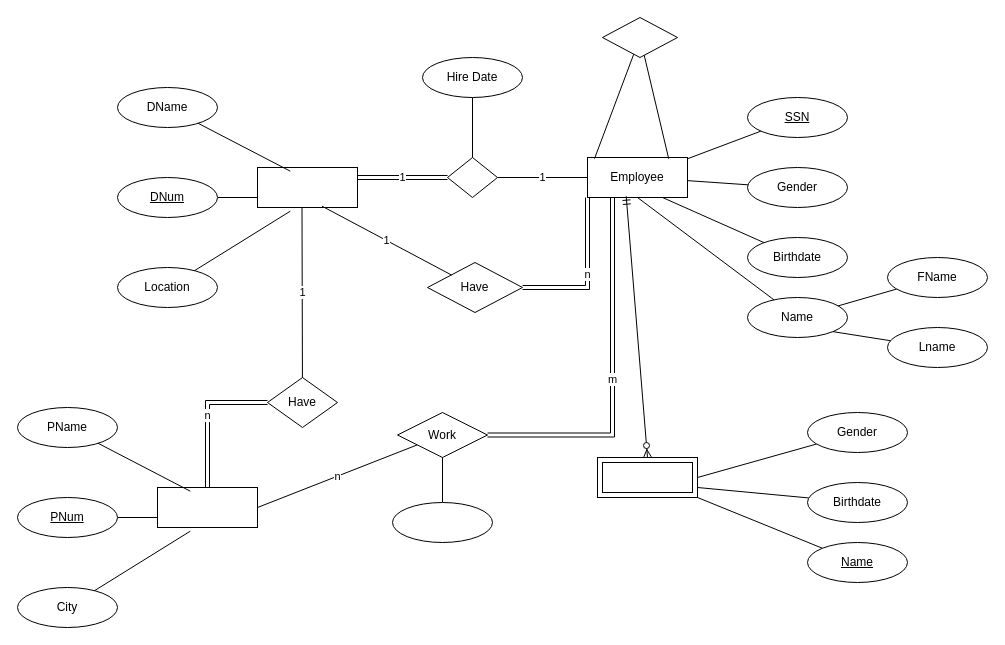
Some shapes in this 1005 by 645 pixel diagram are drawn without their labels. Here are the shapes that lost their labels. From the top down, the centre of each, then its label:
At [640,37]: "Super".
At [307,187]: "Department".
At [472,177]: "manage".
At [647,477]: "dependent".
At [207,507]: "Project".
At [442,522]: "Working Hours".
